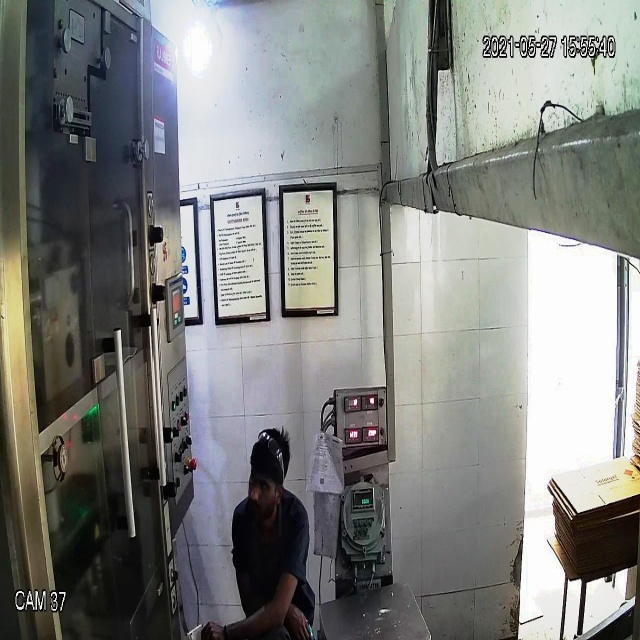Sin_gafas: (244, 465, 285, 497)
